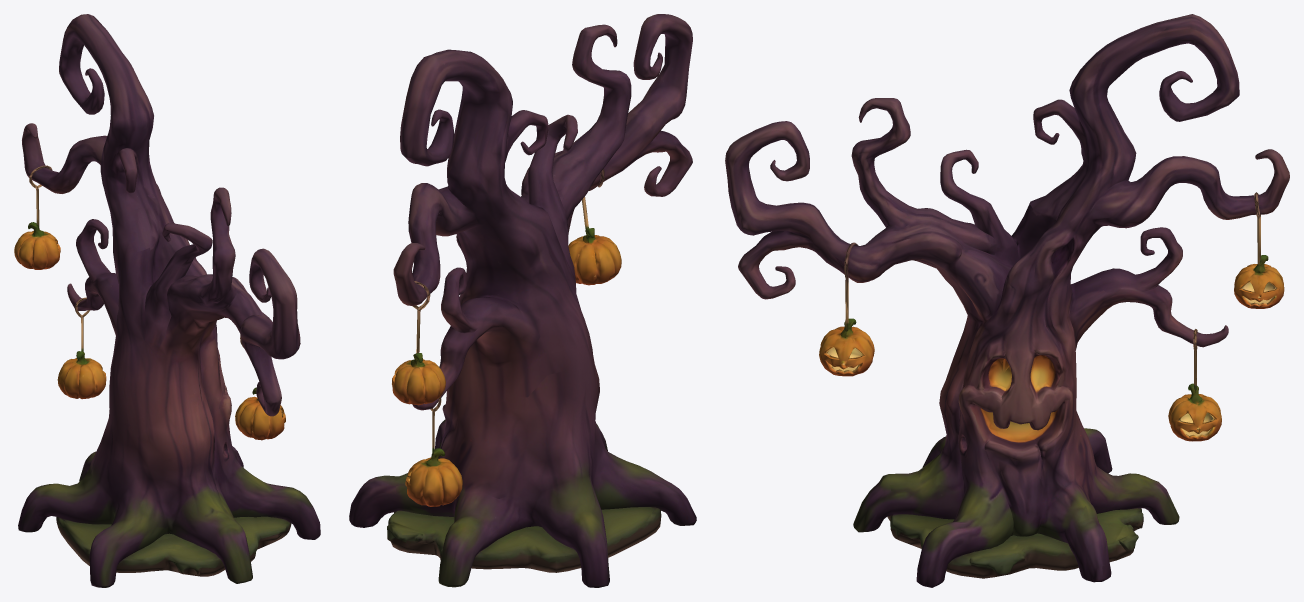
The model's file is H2_SpookyTree_LOD0.fbx.
The picture shows the model from 3 angles, left to right: view 1: azimuth 30°, elevation 25°; view 2: azimuth 150°, elevation 25°; view 3: azimuth 270°, elevation 25°; orthographic projection. The views are drawn at different scales.
Visible parts, largest first — view 1: H2_SpookyTree_LOD0; view 2: H2_SpookyTree_LOD0; view 3: H2_SpookyTree_LOD0.
Part boxes in pixels (x1,y1,x2,y2): H2_SpookyTree_LOD0: (14,14,320,587); H2_SpookyTree_LOD0: (349,14,696,587); H2_SpookyTree_LOD0: (725,14,1289,587).
Size of the model in its own units: 1.84 by 3.6 by 3.61.
Materials: 1 (1 with a texture image).
